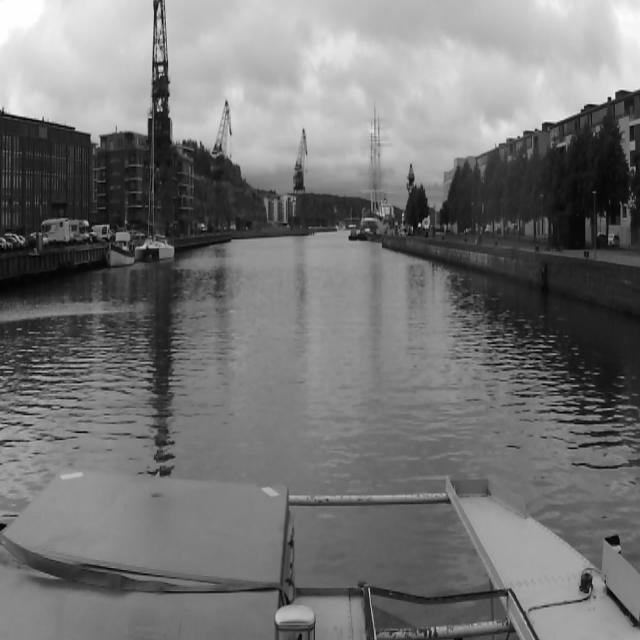ship: (134, 100, 174, 260), (352, 110, 394, 243), (104, 230, 134, 268)
